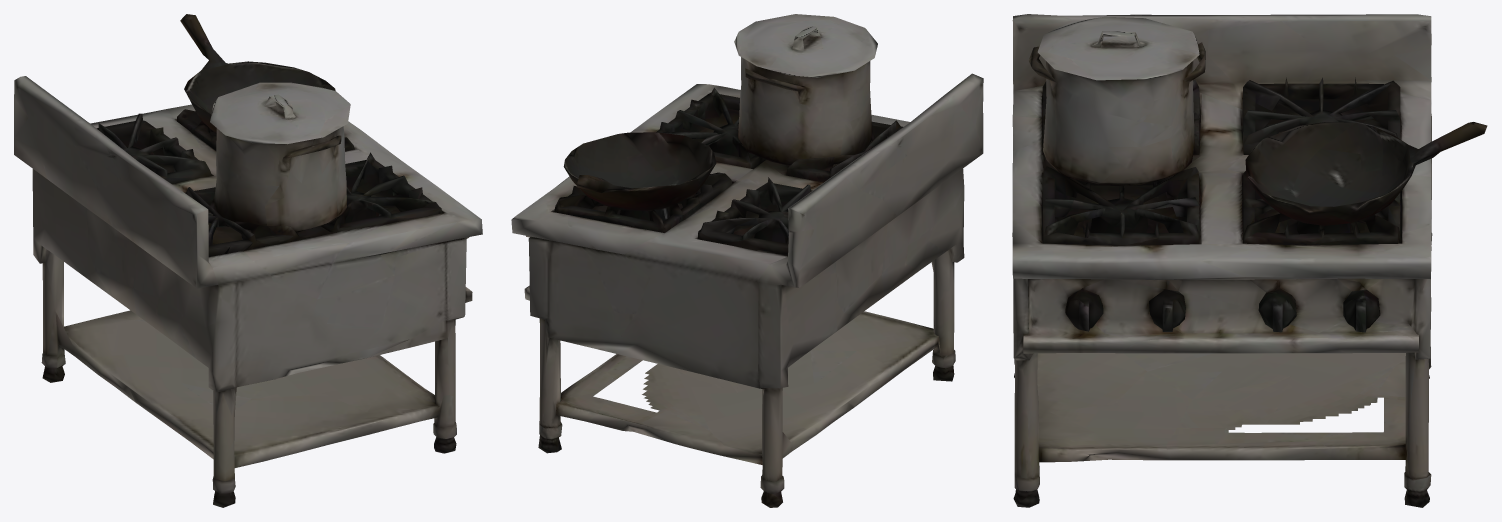
The model's file is stove.glb.
The picture shows the model from 3 angles, left to right: view 1: azimuth 30°, elevation 25°; view 2: azimuth 150°, elevation 25°; view 3: azimuth 270°, elevation 25°; orthographic projection. The views are drawn at different scales.
Parts seen in each view (by area): view 1: tripo_node_9cc440ac-faf0-4a4e-916d-7b330a35025c; view 2: tripo_node_9cc440ac-faf0-4a4e-916d-7b330a35025c; view 3: tripo_node_9cc440ac-faf0-4a4e-916d-7b330a35025c.
Boxes of the visible parts, bbox=[...] form: tripo_node_9cc440ac-faf0-4a4e-916d-7b330a35025c: bbox=[14, 14, 482, 507]; tripo_node_9cc440ac-faf0-4a4e-916d-7b330a35025c: bbox=[511, 14, 983, 507]; tripo_node_9cc440ac-faf0-4a4e-916d-7b330a35025c: bbox=[1012, 14, 1487, 507].
Bounding box in the file's own units: 0.8345 × 0.9322 × 1.
1 material, 1 textured.
